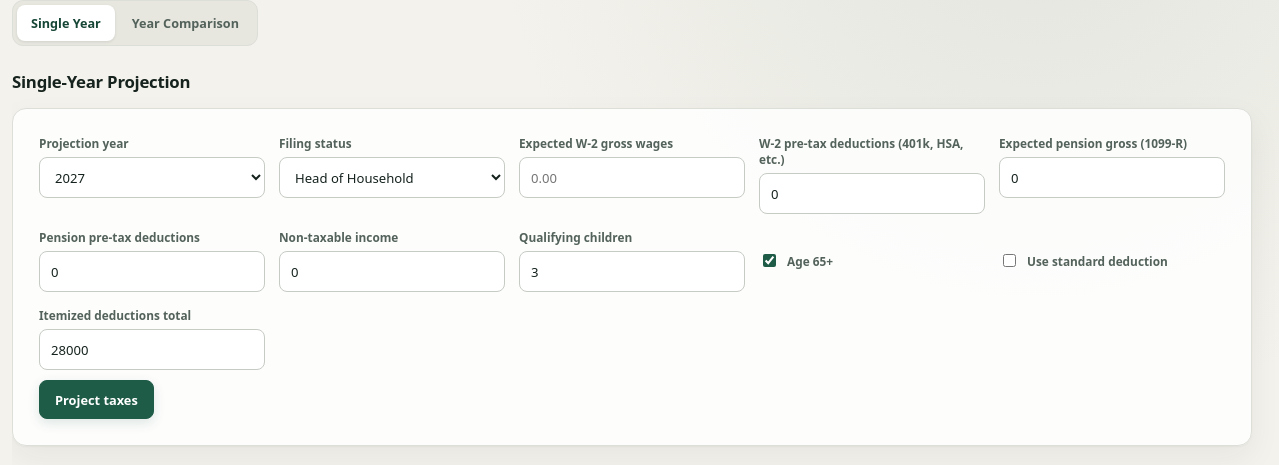
Test: ProjectionsPage – rate display › loads the complete saved profile into both projection tabs
The image size is (1279, 465).
Expected: the number field labelled "Qualifying children" holds "3", [519, 251, 745, 292]
Expected: the checkbox labelled "Age 65+" is checked, [763, 254, 776, 267]
Click the button "Year Comparison": (185, 23) [118, 5, 253, 41]
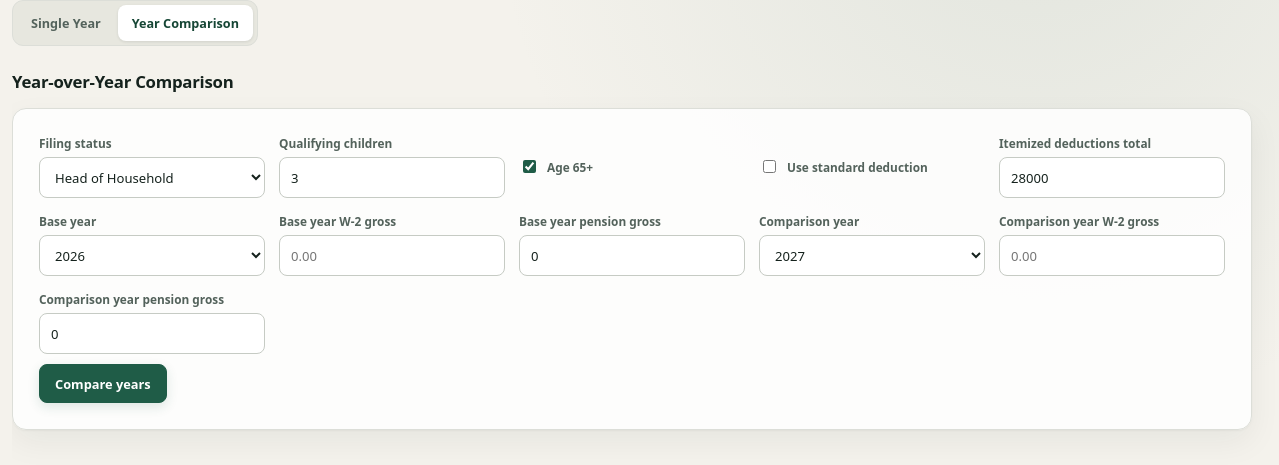
Expected: the dropdown labelled "Filing status" shows "Head of Household", [39, 157, 265, 198]
Expected: the number field labelled "Qualifying children" holds "3", [279, 157, 505, 198]
Expected: the number field labelled "Itemized deductions total" holds "28000", [999, 157, 1225, 198]
